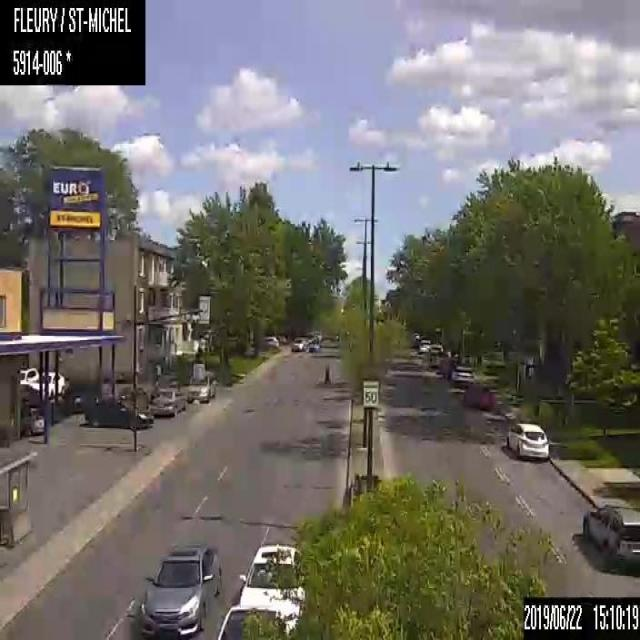vehicle: (139, 538, 223, 638), (236, 540, 304, 626), (580, 503, 639, 573), (82, 394, 152, 433), (504, 420, 549, 459), (148, 386, 185, 418), (29, 367, 64, 397), (184, 371, 215, 404), (464, 381, 493, 410), (450, 362, 475, 385), (19, 365, 39, 384), (426, 342, 442, 364), (289, 337, 304, 352), (306, 338, 321, 353), (418, 337, 431, 353)
